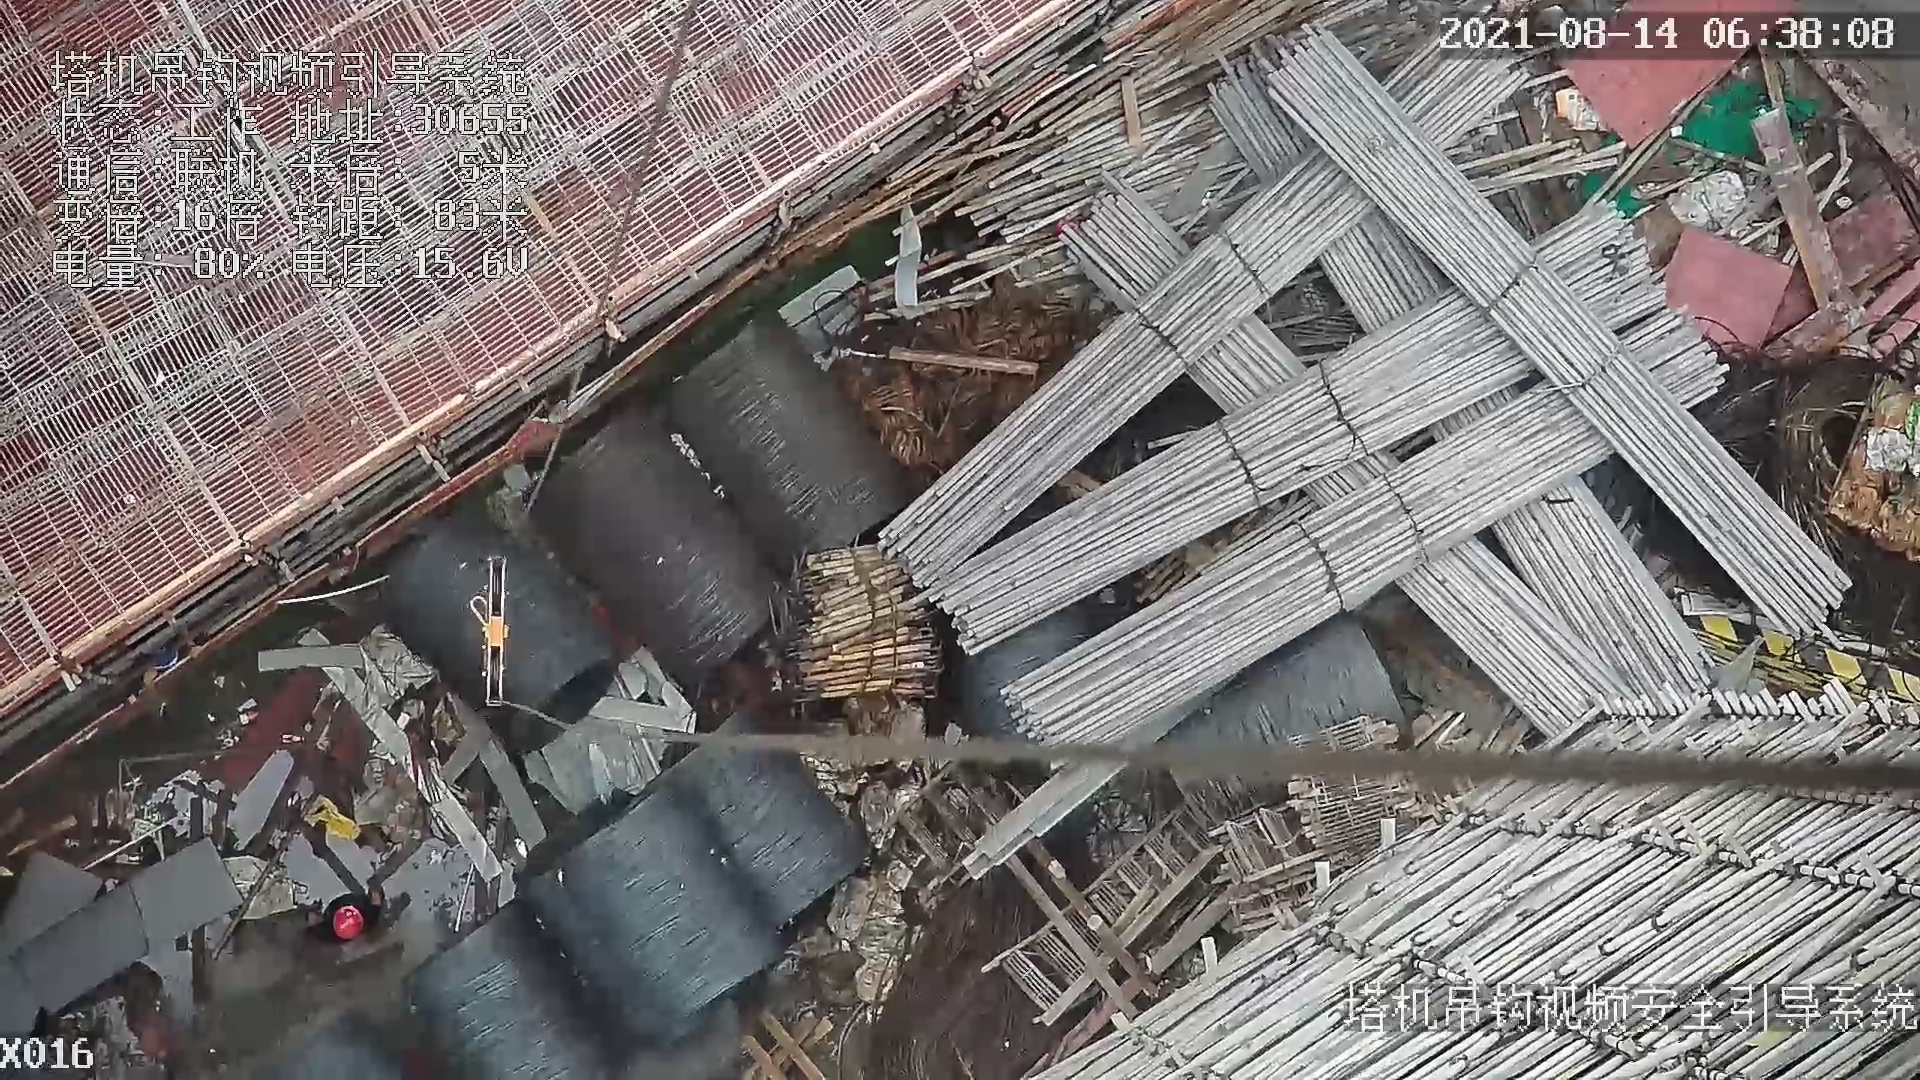helmet: (331, 905, 368, 951)
hook: (465, 550, 518, 705)
person: (309, 890, 410, 955)
scaffold: (976, 63, 1844, 741), (760, 542, 949, 709)
